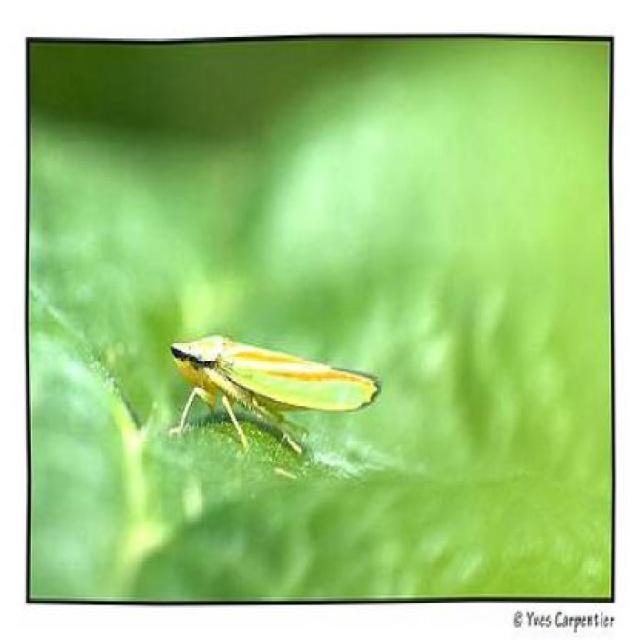green-leafhopper: (166, 334, 377, 460)
